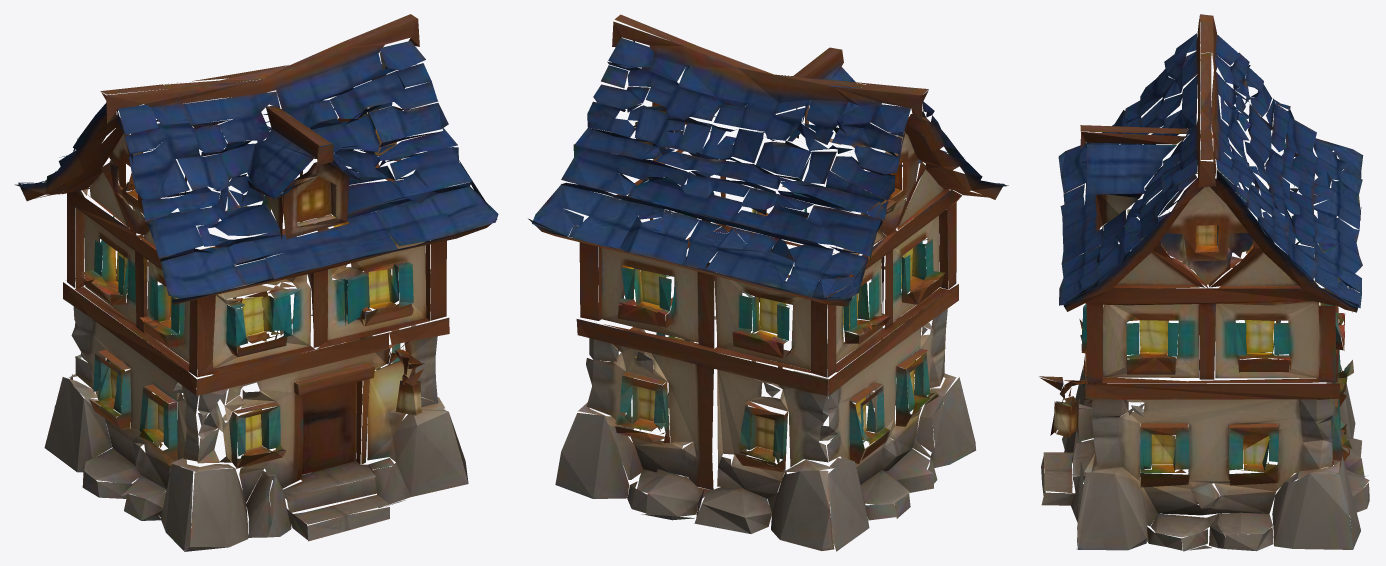
Rendered from kit_casa.glb.
3 views of the same model, side by side, from view 1: azimuth 30°, elevation 25°; view 2: azimuth 150°, elevation 25°; view 3: azimuth 270°, elevation 25° (orthographic). The views are drawn at different scales.
Parts seen in each view (by area): view 1: _leggero; view 2: _leggero; view 3: _leggero.
Boxes of the visible parts, left/top/right/bottom form: _leggero: left=14, top=14, right=498, bottom=551; _leggero: left=528, top=14, right=1008, bottom=551; _leggero: left=1039, top=14, right=1369, bottom=551.
Size of the model in its own units: 1.01 by 1.21 by 0.9165.
1 material, 1 textured.
